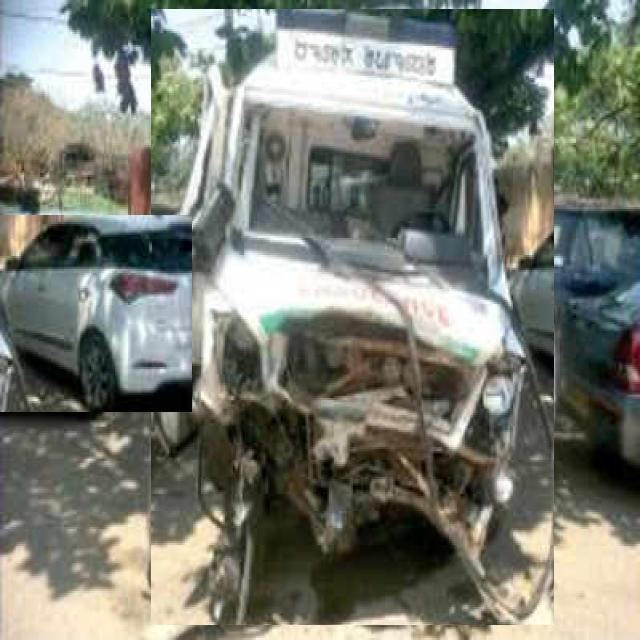accident: (151, 10, 554, 625)
car: (0, 215, 192, 412)
